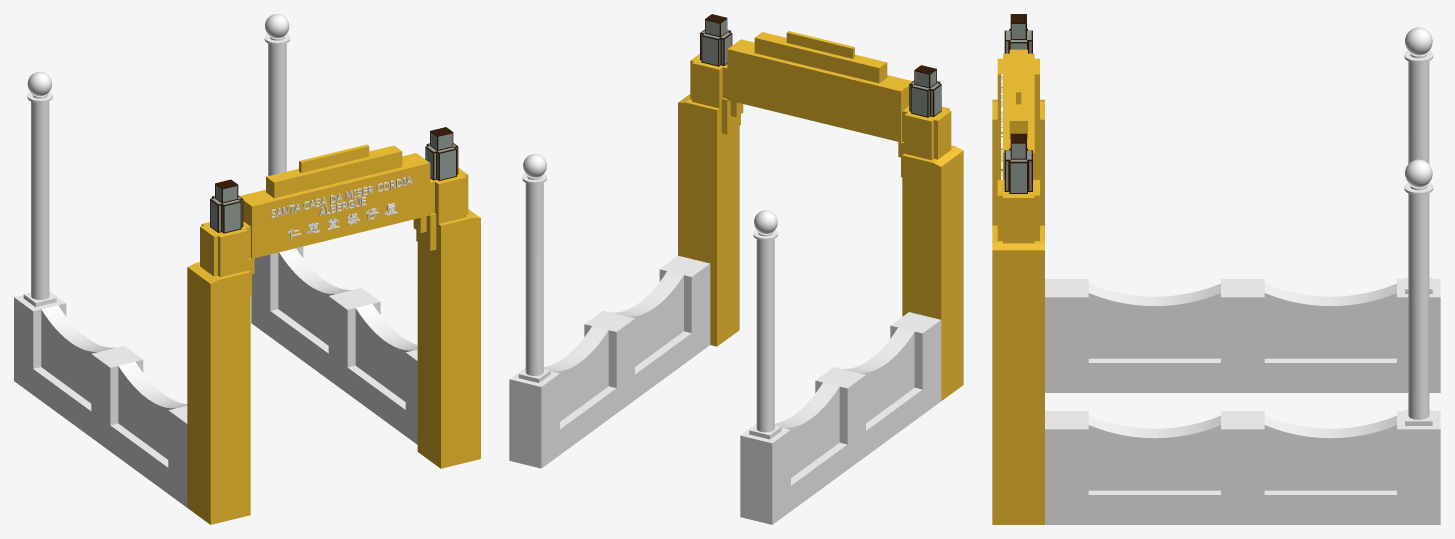
The model's file is Existing+Albergue_gate 20220325.gltf.
3 views of the same model, side by side, from view 1: azimuth 30°, elevation 25°; view 2: azimuth 150°, elevation 25°; view 3: azimuth 270°, elevation 25° (orthographic). The views are drawn at different scales.
Visible parts, largest first — view 1: root; view 2: root; view 3: root.
Part boxes in pixels (x1=…): root: x1=14, y1=14, x2=480, y2=524; root: x1=509, y1=14, x2=963, y2=524; root: x1=992, y1=14, x2=1440, y2=524.
Size of the model in its own units: 2.7 by 3.15 by 3.4.
